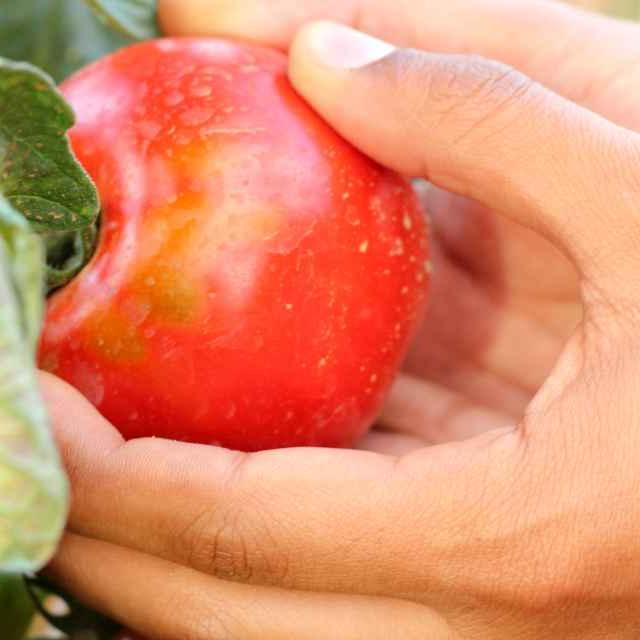tomato: (0, 30, 439, 474)
